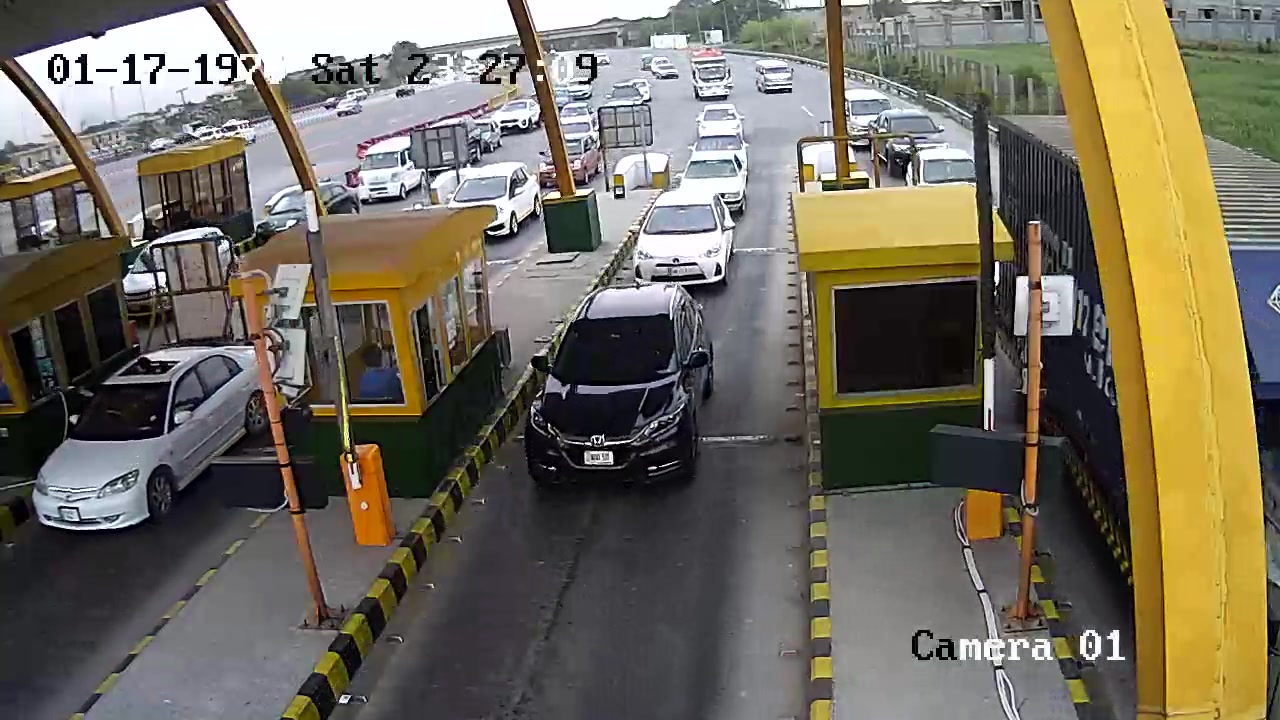F1: (513, 279, 742, 499)
